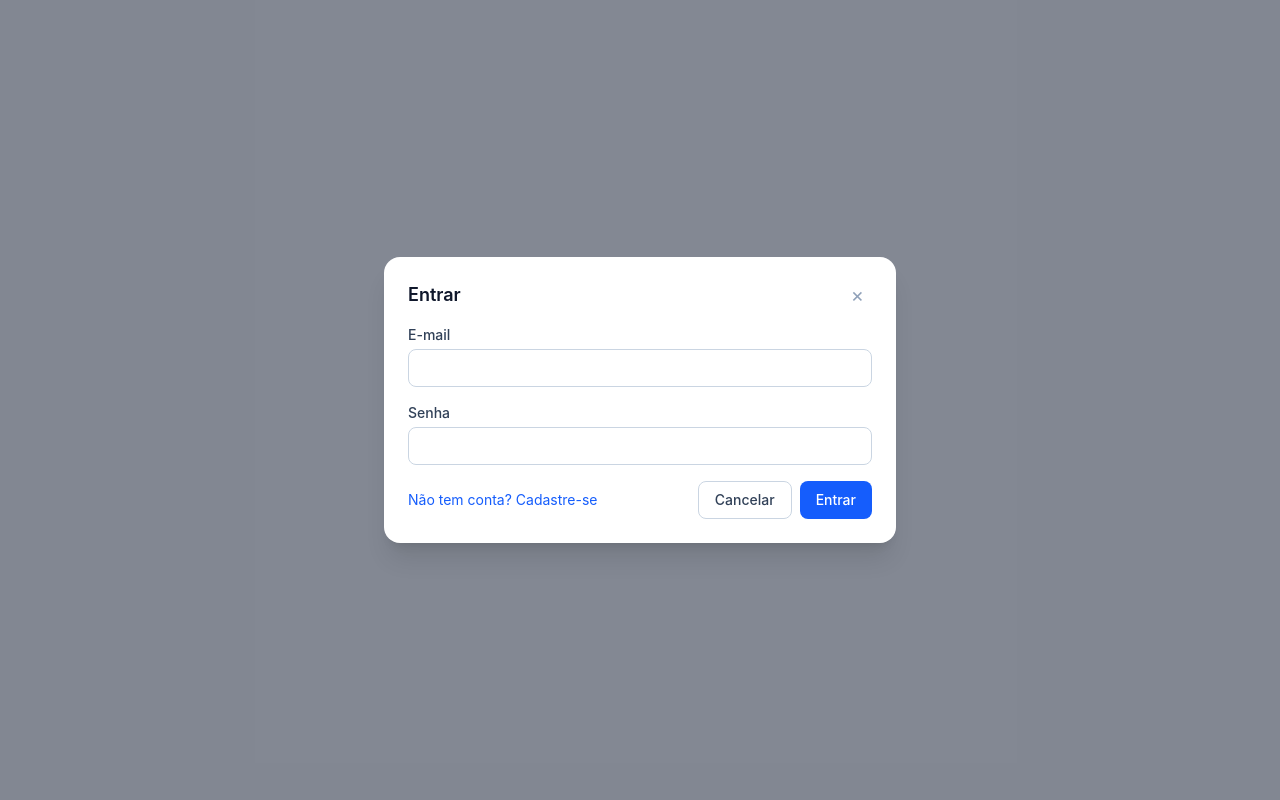
AuthModal › mostra o erro da API e não fecha quando o login falha
Type "ana@example.com" into the field labelled "E-mail" at (640, 368), box [408,349,872,387]
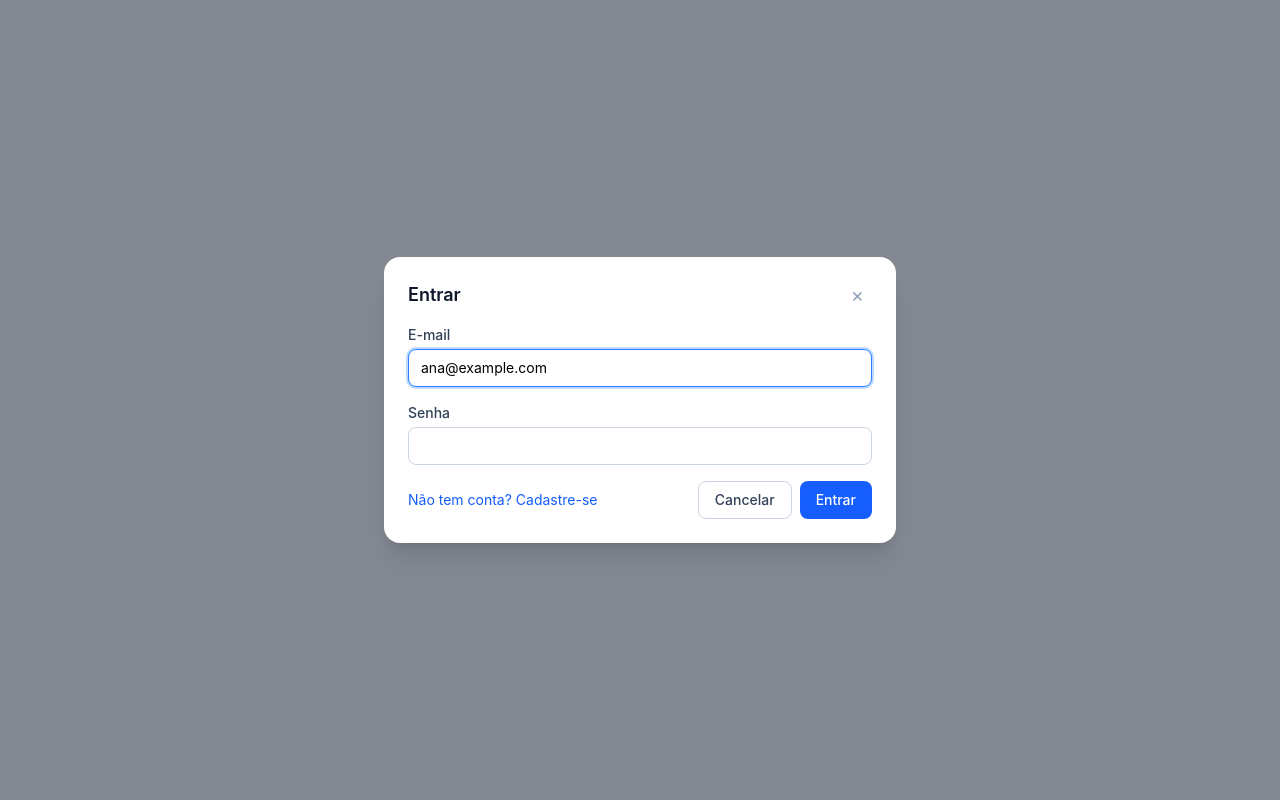
Type "errada123" into the password field labelled "Senha" at (640, 446), box [408,427,872,465]
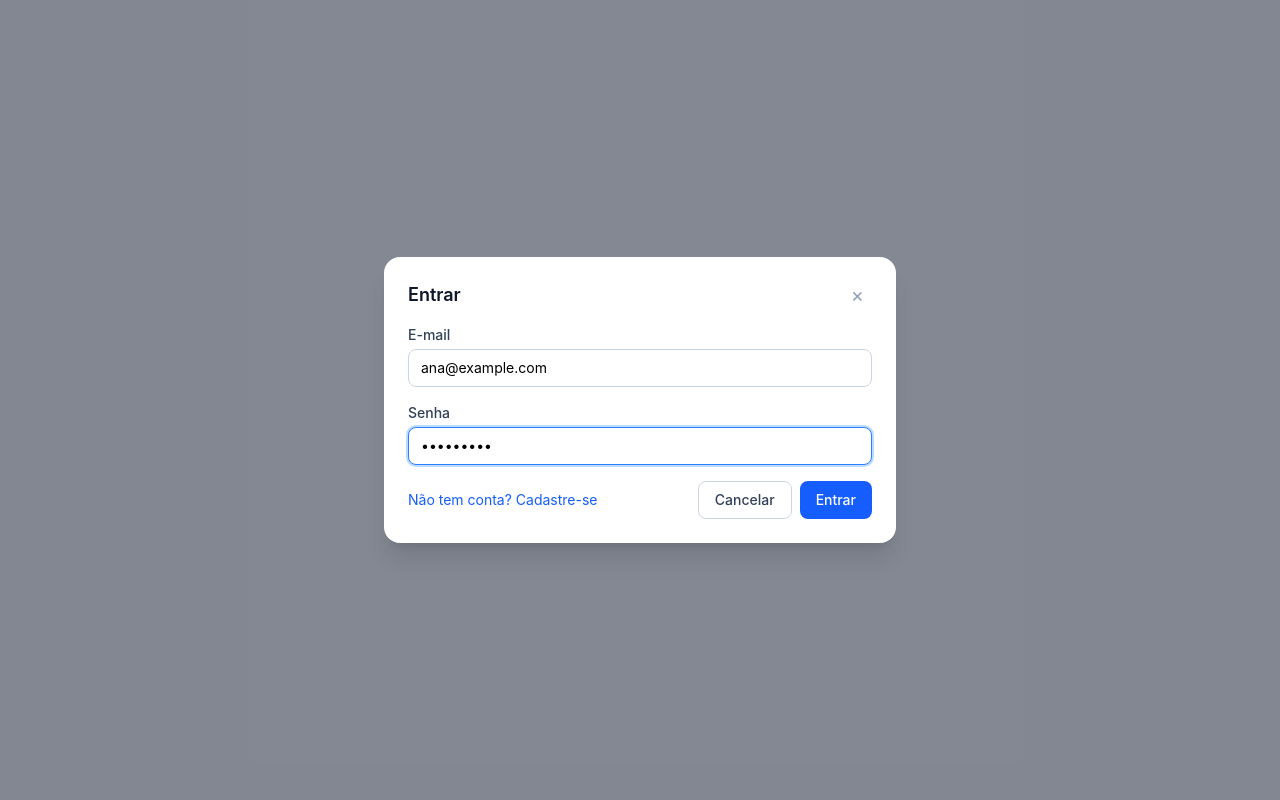
Click the button "Entrar" at (836, 500), box [800,481,872,519]
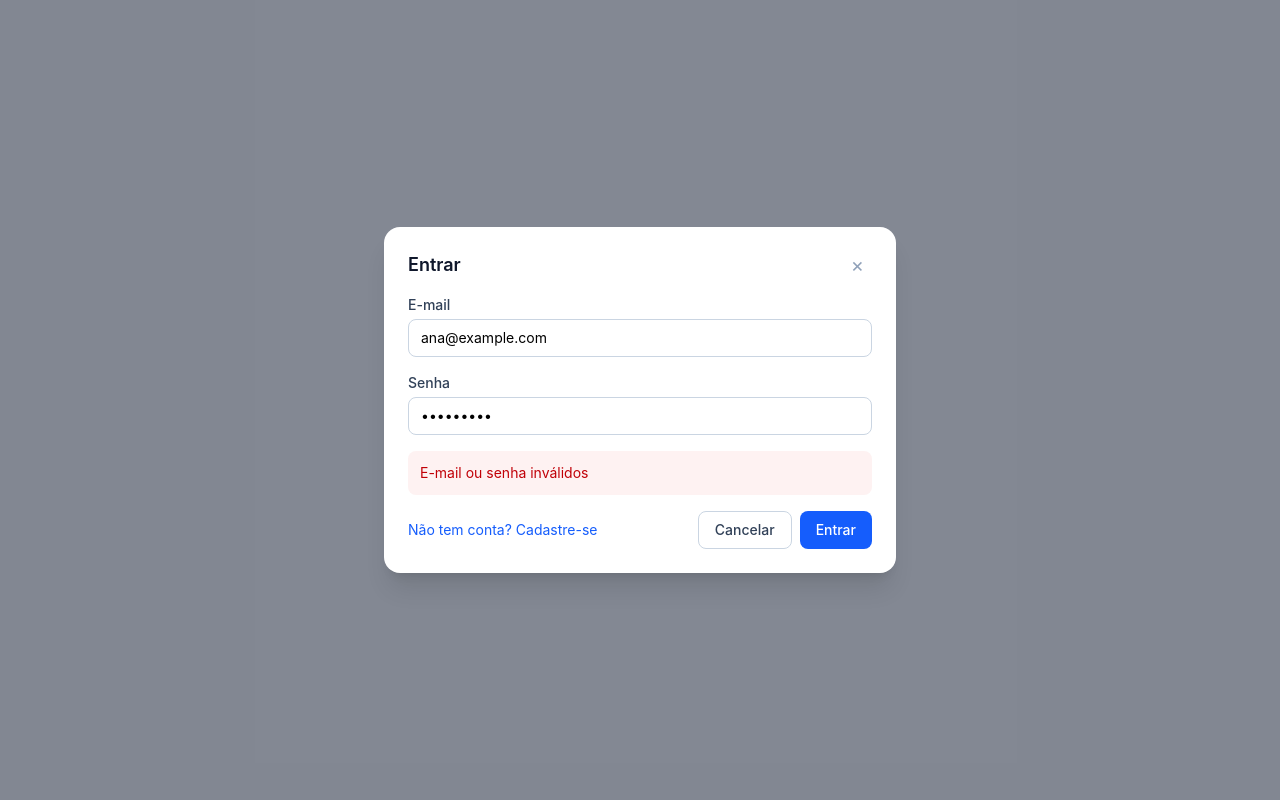
Check: the message reads "E-mail ou senha inválidos", box [420,464,588,481]
